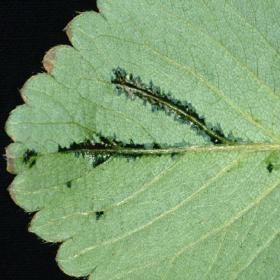Angular Leafspot: (18, 66, 279, 223)
